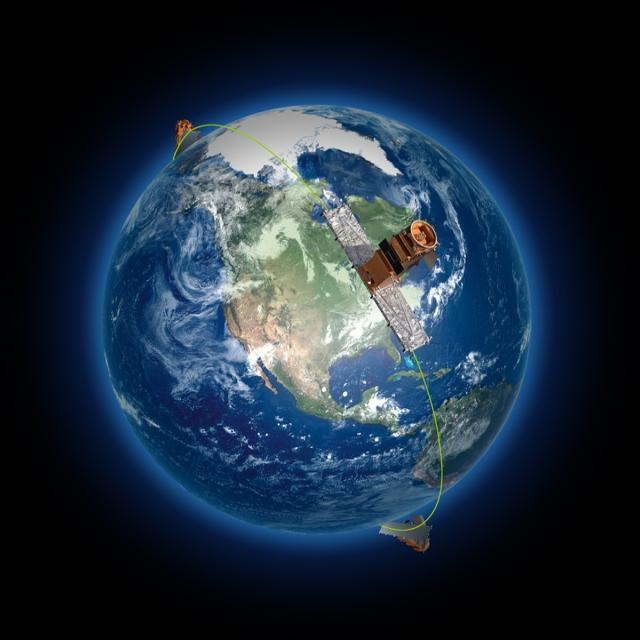satellite: (312, 174, 447, 368)
